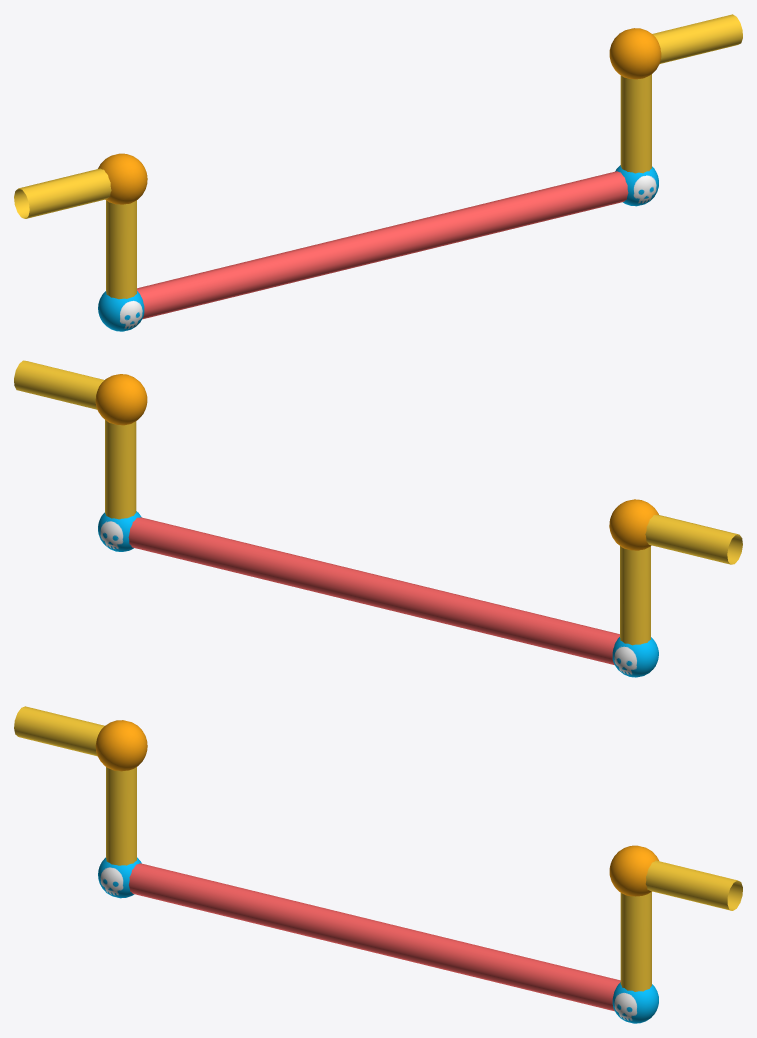
The model's file is rotate01.FBX.
The picture shows the model from 3 angles, top to bottom: view 1: azimuth 30°, elevation 25°; view 2: azimuth 150°, elevation 25°; view 3: azimuth 330°, elevation 25°; orthographic projection.
Visible parts, largest first — view 1: rotate01; view 2: rotate01; view 3: rotate01.
Boxes of the visible parts, bbox=[...] form: rotate01: bbox=[14, 14, 742, 331]; rotate01: bbox=[14, 360, 742, 677]; rotate01: bbox=[14, 706, 742, 1023].
Size of the model in its own units: 18.11 by 4.21 by 1.14.
Materials: 1 (1 with a texture image).
